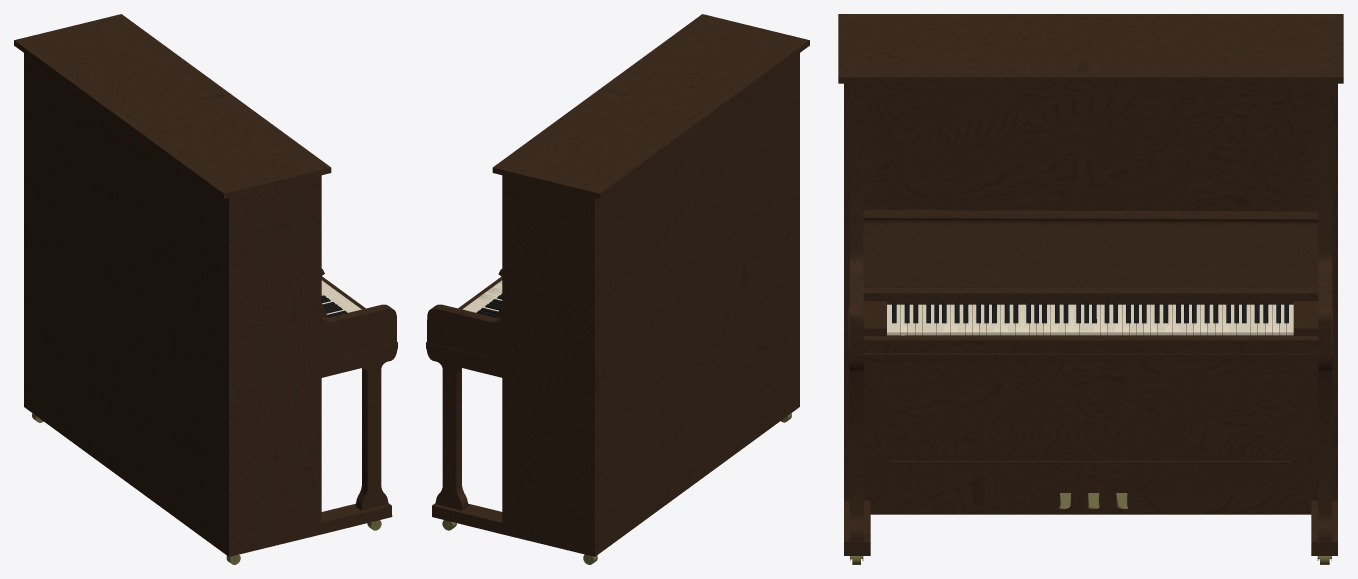
The model's file is Piano.fbx.
3 renders of one model, left to right at view 1: azimuth 30°, elevation 25°; view 2: azimuth 150°, elevation 25°; view 3: azimuth 270°, elevation 25°, orthographic. The views are drawn at different scales.
Parts seen in each view (by area): view 1: Piano, piano teclas; view 2: Piano, piano teclas; view 3: Piano, piano tapa, piano teclas.
Boxes of the visible parts, <box> form: Piano: <box>14,14,397,564</box>; piano teclas: <box>321,280,361,317</box>; Piano: <box>426,14,809,564</box>; piano teclas: <box>462,280,502,317</box>; Piano: <box>838,14,1343,564</box>; piano tapa: <box>863,210,1318,288</box>; piano teclas: <box>863,288,1318,335</box>.
Bounding box in the file's own units: 83.03 × 169 × 169.
